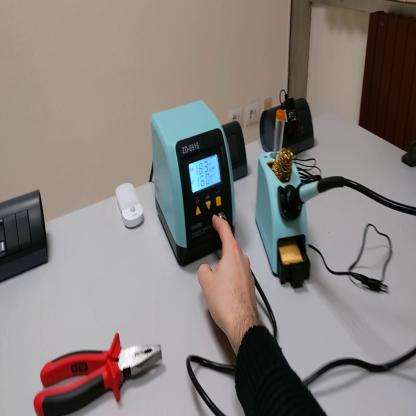hand: (198, 214, 259, 338)
pliers: (34, 336, 163, 416)
socket: (262, 97, 317, 156), (224, 119, 249, 183)
welder base: (257, 104, 315, 289)
welder probe tip: (289, 175, 335, 210)
welder station: (152, 102, 238, 271)
